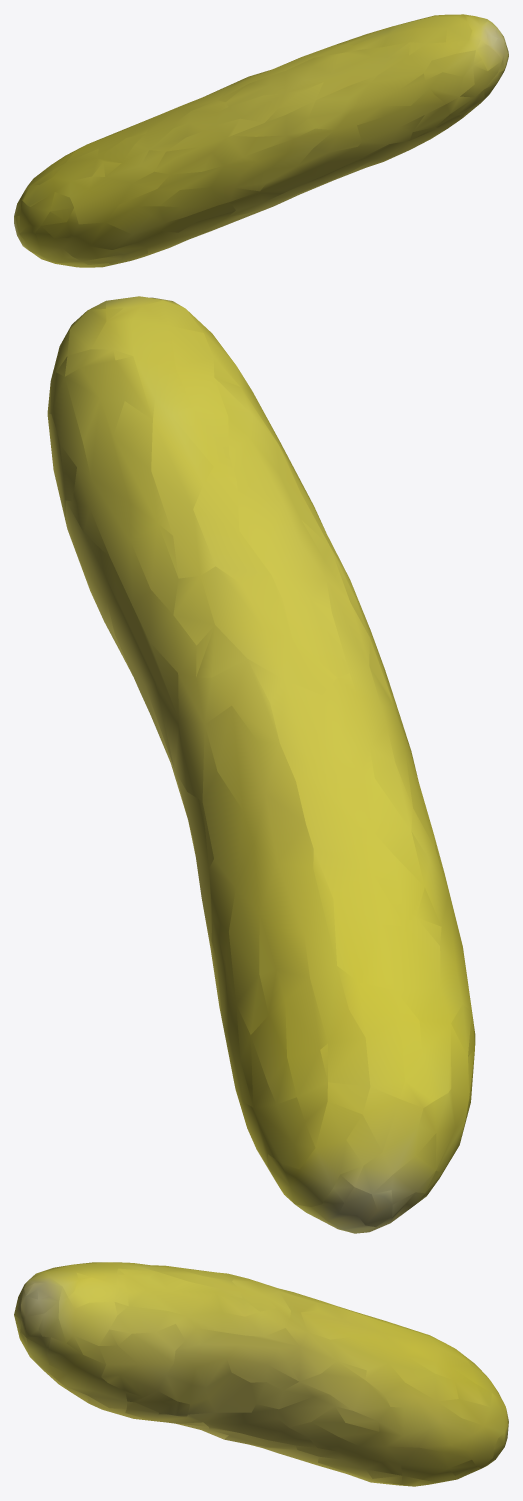
The model's file is 0005_mask_006_toy_yellow_squash.glb.
The picture shows the model from 3 angles, top to bottom: view 1: azimuth 30°, elevation 25°; view 2: azimuth 150°, elevation 25°; view 3: azimuth 270°, elevation 25°; orthographic projection. The views are drawn at different scales.
Parts seen in each view (by area): view 1: mask_006_object; view 2: mask_006_object; view 3: mask_006_object.
Part boxes in pixels (x1,y1,x2,y2): mask_006_object: (14,14,508,267); mask_006_object: (47,296,475,1233); mask_006_object: (14,1262,508,1486).
Size of the model in its own units: 0.2058 by 0.1672 by 0.2053.
